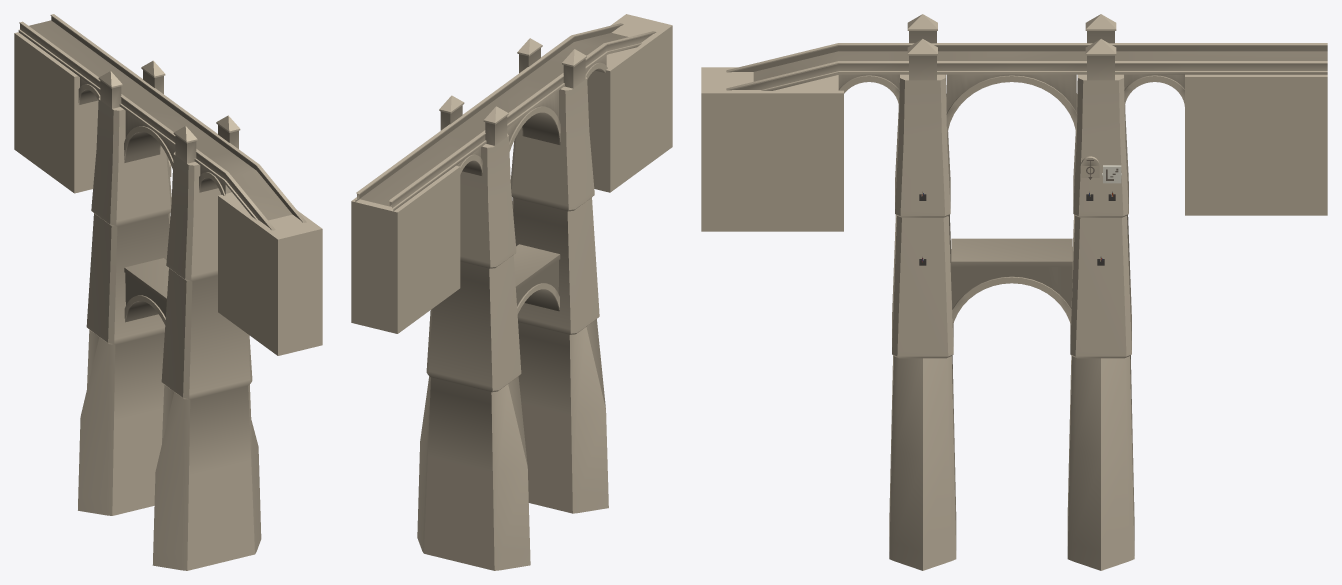
File: two_heights_bridge.glb
3 views of the same model, side by side, from view 1: azimuth 30°, elevation 25°; view 2: azimuth 150°, elevation 25°; view 3: azimuth 270°, elevation 25° (orthographic). The views are drawn at different scales.
Visible parts, largest first — view 1: two_heights_bridge; view 2: two_heights_bridge; view 3: two_heights_bridge.
Boxes of the visible parts, x1=… form: two_heights_bridge: x1=14, y1=14, x2=322, y2=570; two_heights_bridge: x1=351, y1=14, x2=672, y2=570; two_heights_bridge: x1=701, y1=14, x2=1327, y2=570.
Size of the model in its own units: 29.24 by 111 by 123.
